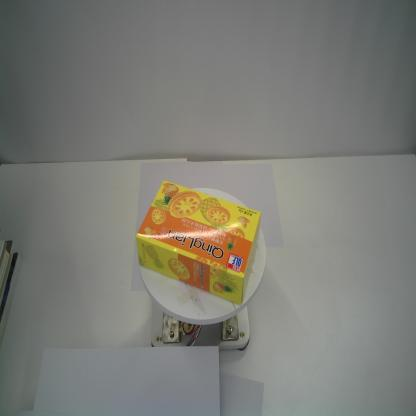Dessert: (134, 178, 262, 307)
